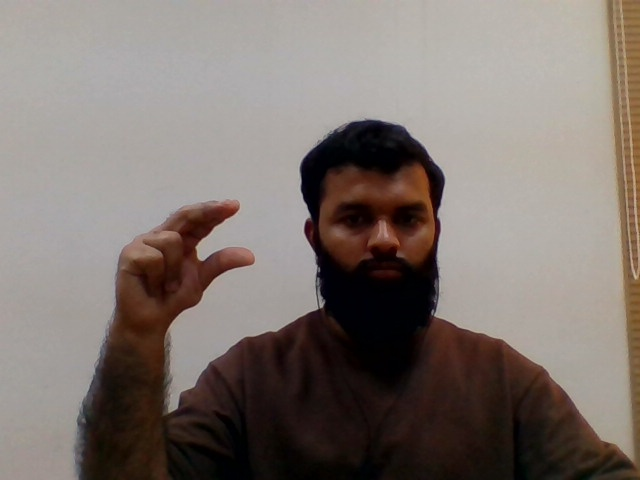No: (100, 189, 261, 327)
